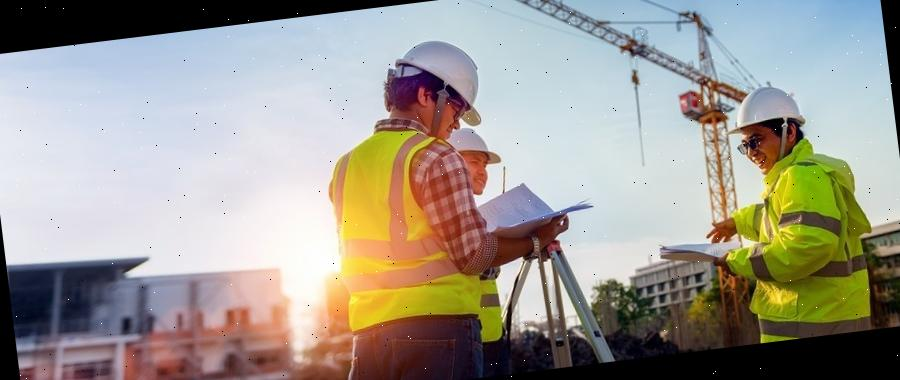helmet: (388, 36, 486, 136), (718, 81, 810, 141), (442, 122, 504, 170)
wear: (327, 132, 493, 332), (731, 152, 880, 344)
